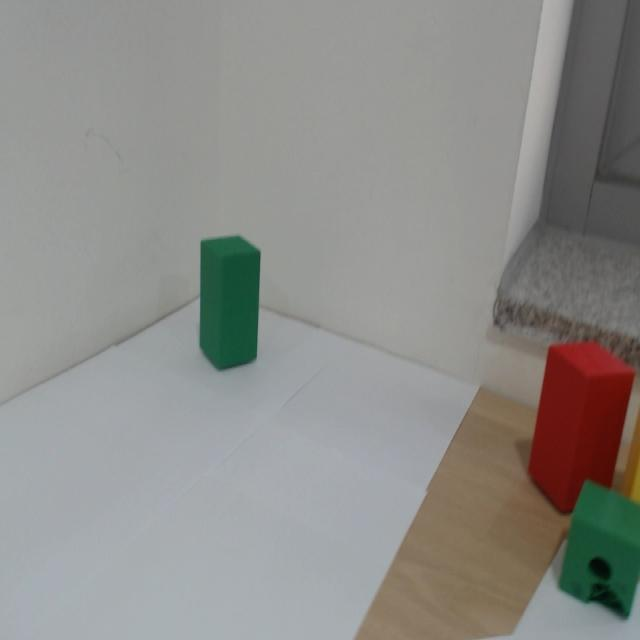cube: (175, 220, 288, 393)
